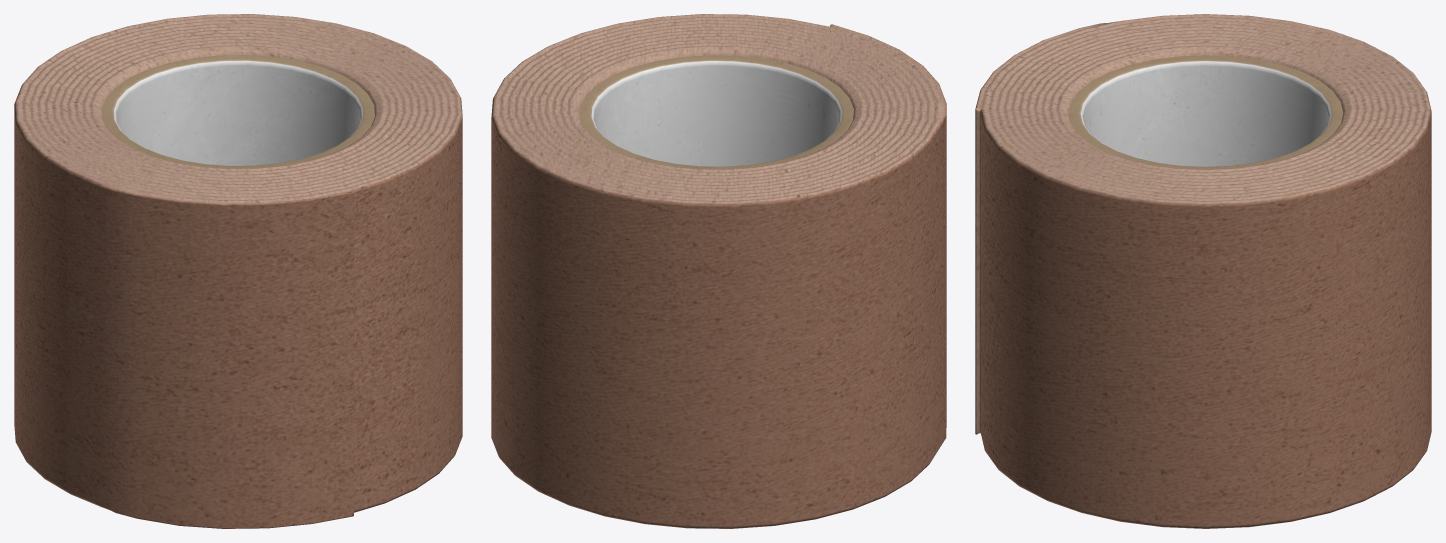
Rendered from Gauze_Tape.fbx.
The picture shows the model from 3 angles, left to right: view 1: azimuth 30°, elevation 25°; view 2: azimuth 150°, elevation 25°; view 3: azimuth 270°, elevation 25°; orthographic projection.
Visible parts, largest first — view 1: Gauze_Tape; view 2: Gauze_Tape; view 3: Gauze_Tape.
Part boxes in pixels (x1,y1,x2,y2): Gauze_Tape: (14, 14, 462, 528); Gauze_Tape: (491, 14, 946, 528); Gauze_Tape: (975, 14, 1431, 528).
Size of the model in its own units: 6.98 by 5.58 by 7.06.
Materials: 1 (1 with a texture image).
